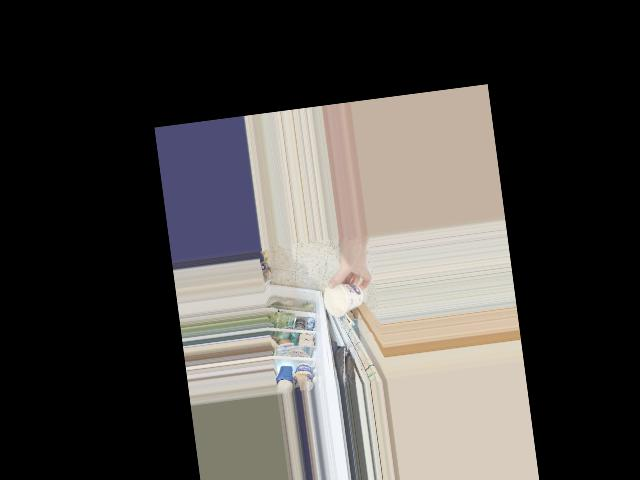cotage: (318, 279, 363, 316)
